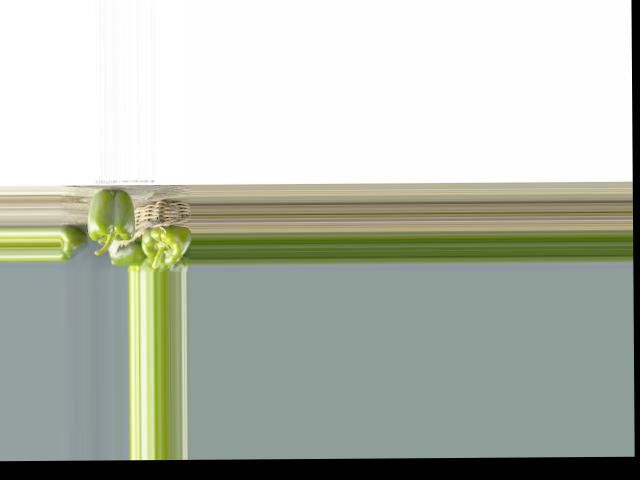bell_pepper: (59, 230, 78, 260)
